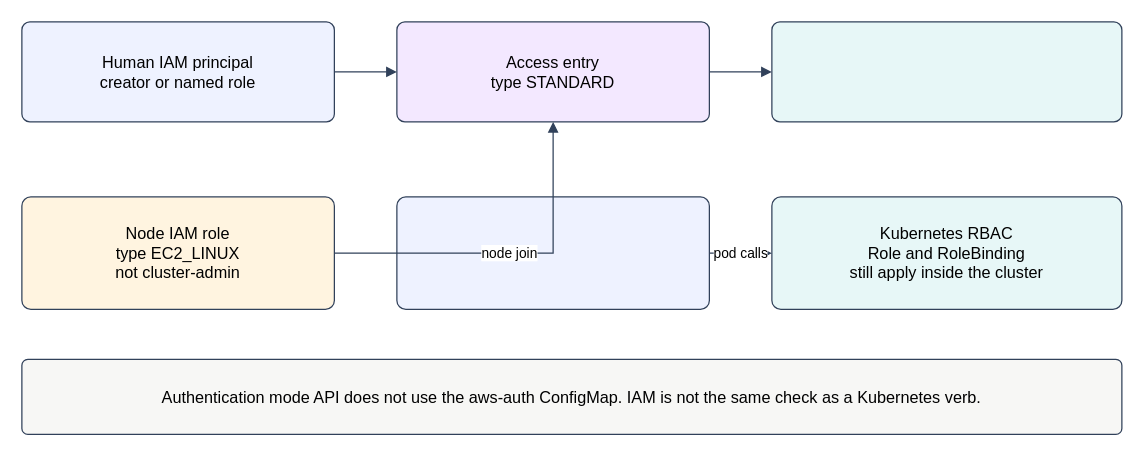
Some shapes in this 1144 by 456 pixel diagram are drawn without their labels. Each missing label, with the box of its shape:
AmazonEKSClusterAdminPolicy or View, or your own RBAC: (771, 21, 1122, 122)
Workload role Pod Identity or IRSA not a human entry: (396, 196, 709, 309)
